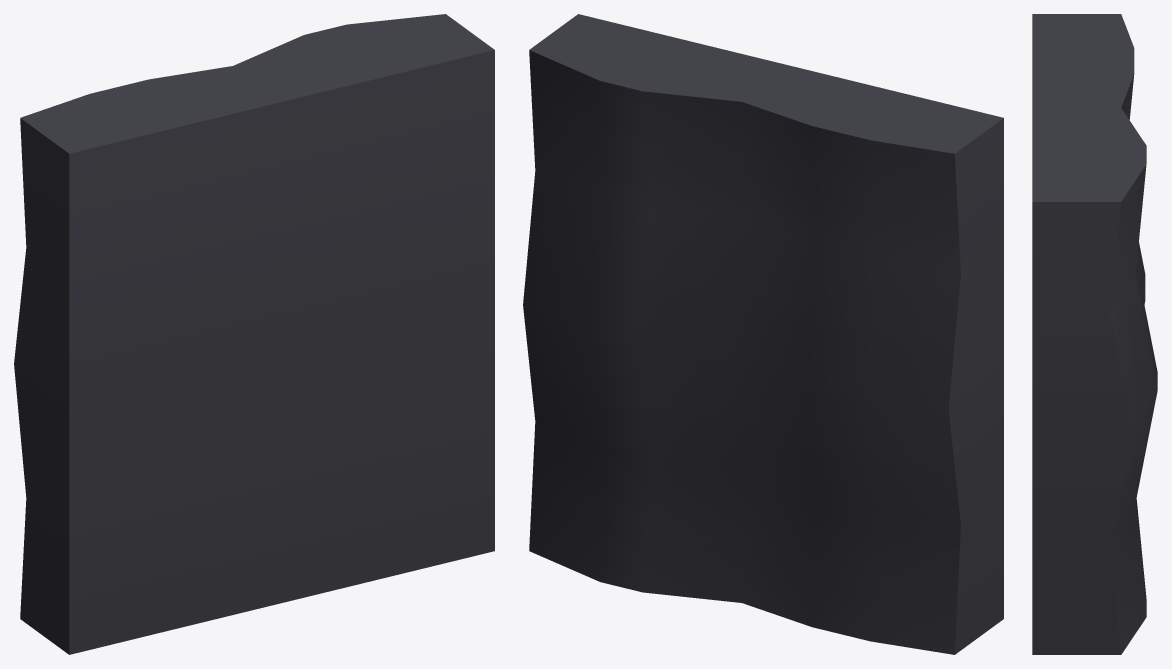
Rendered from template-wall-top.fbx.
3 renders of one model, left to right at view 1: azimuth 30°, elevation 25°; view 2: azimuth 150°, elevation 25°; view 3: azimuth 270°, elevation 25°, orthographic. The views are drawn at different scales.
Visible parts, largest first — view 1: template-wall-top; view 2: template-wall-top; view 3: template-wall-top.
Part boxes in pixels (box(x1,y1,x2,y2)): template-wall-top: box(14, 14, 494, 654); template-wall-top: box(523, 14, 1003, 654); template-wall-top: box(1032, 14, 1157, 654).
Bounding box in the file's own units: 400 × 450 × 113.
